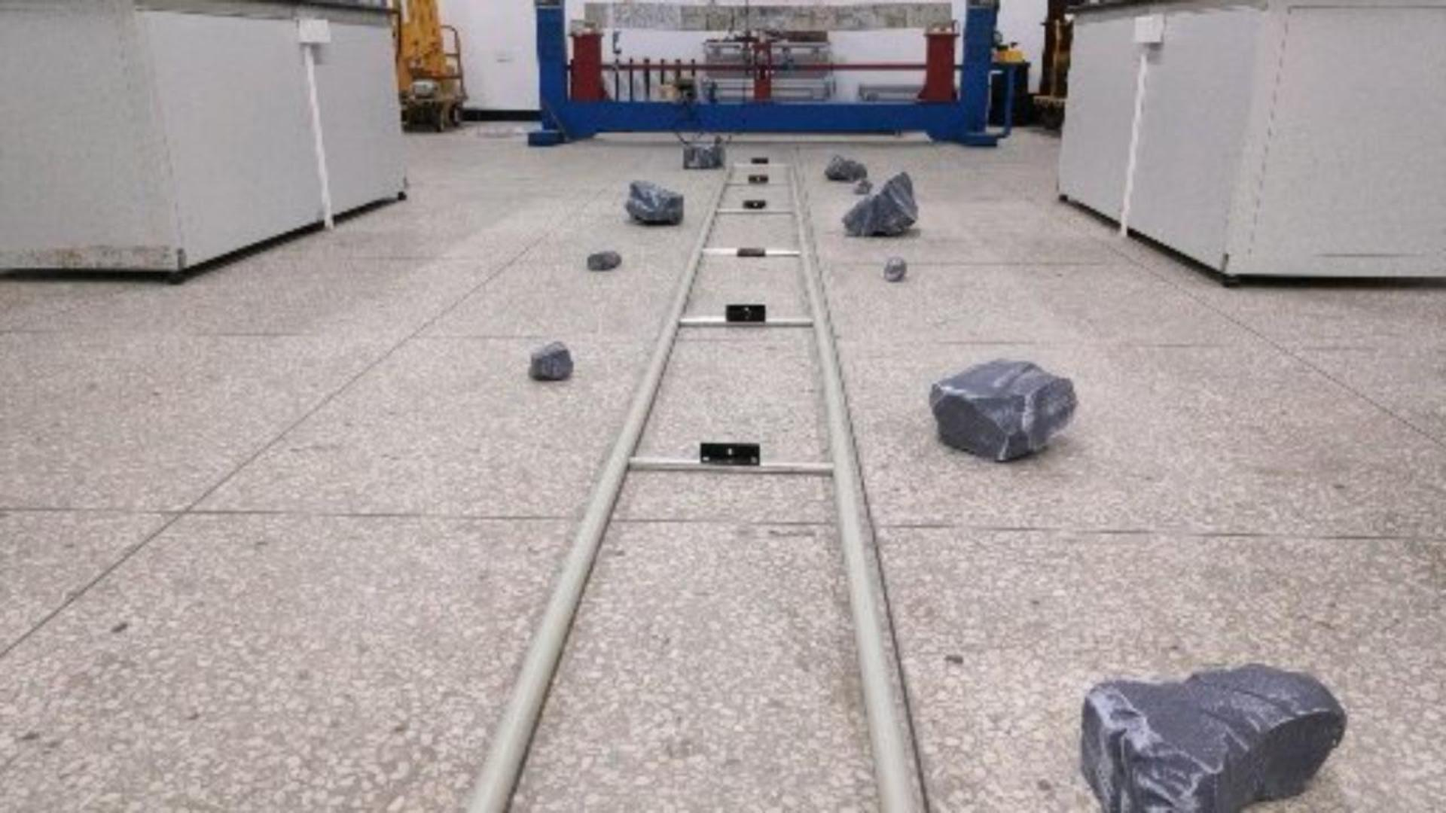rock: (1081, 665, 1345, 812), (929, 359, 1075, 461), (843, 172, 917, 235), (625, 181, 682, 224), (529, 342, 573, 379), (682, 140, 723, 168), (824, 155, 866, 181), (587, 250, 620, 270), (883, 256, 906, 281), (853, 178, 871, 194)
